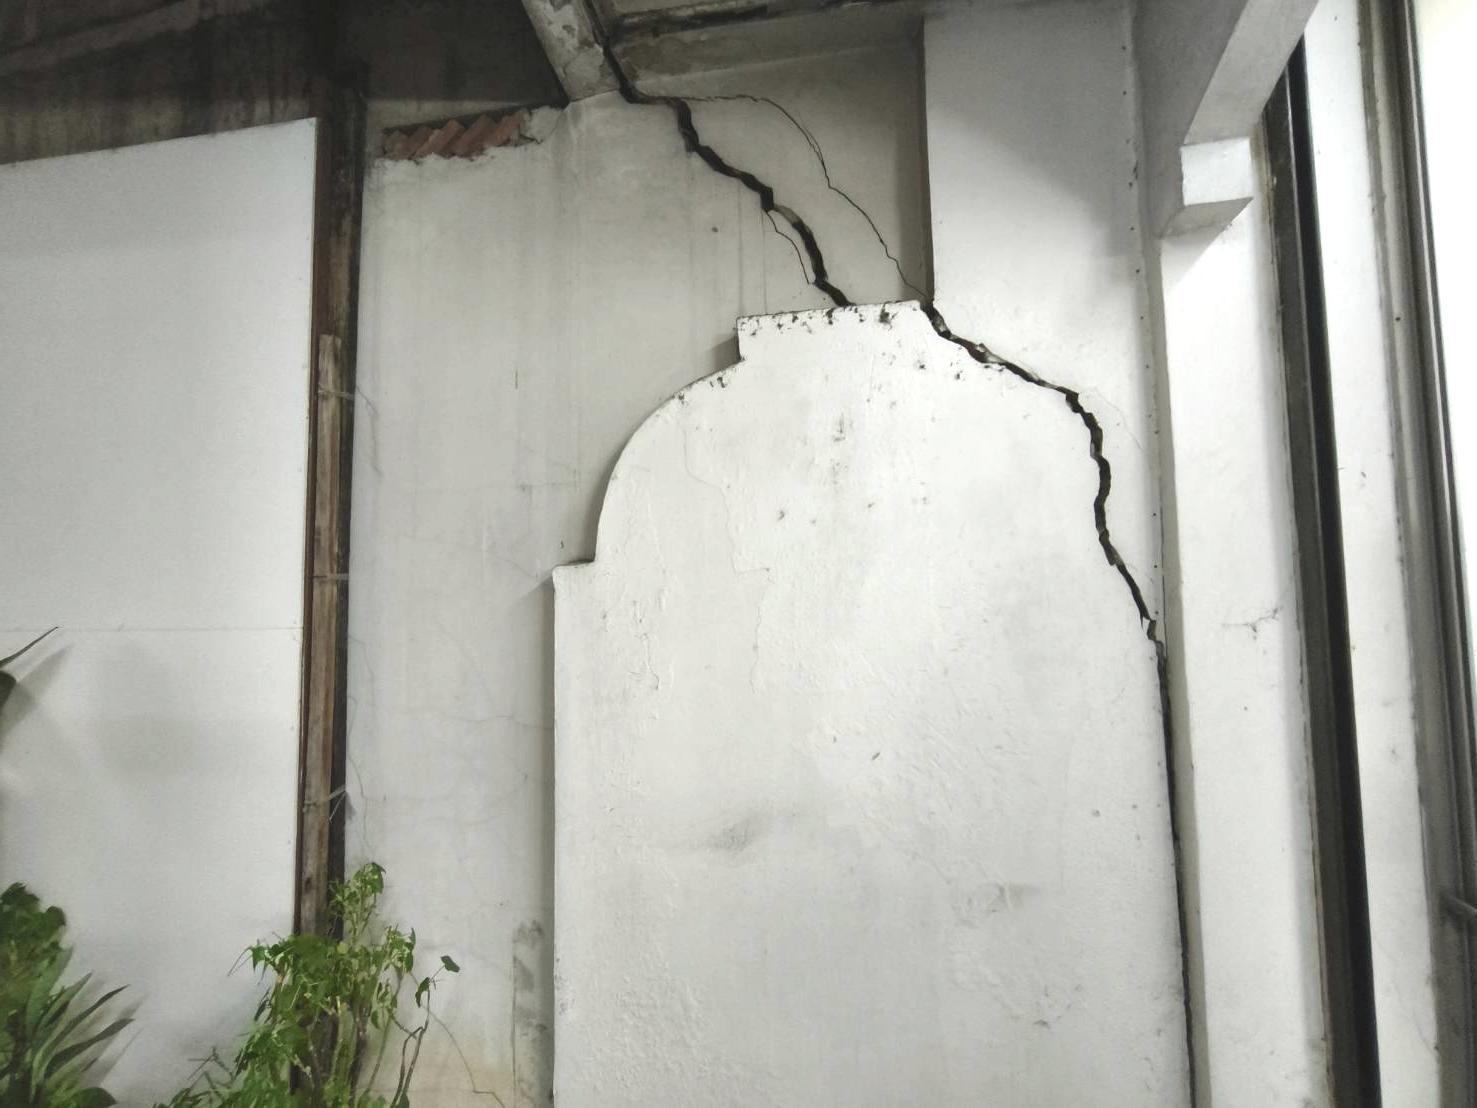High: (561, 5, 1202, 1106)
